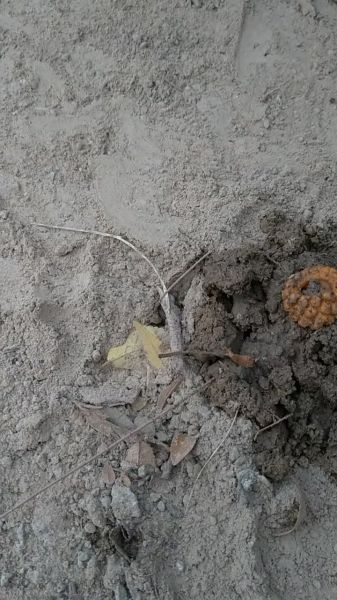eggs: (278, 262, 337, 333)
